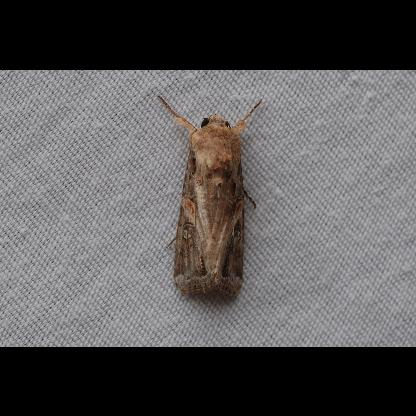Fall Armyworm Moth: (155, 92, 266, 300)
